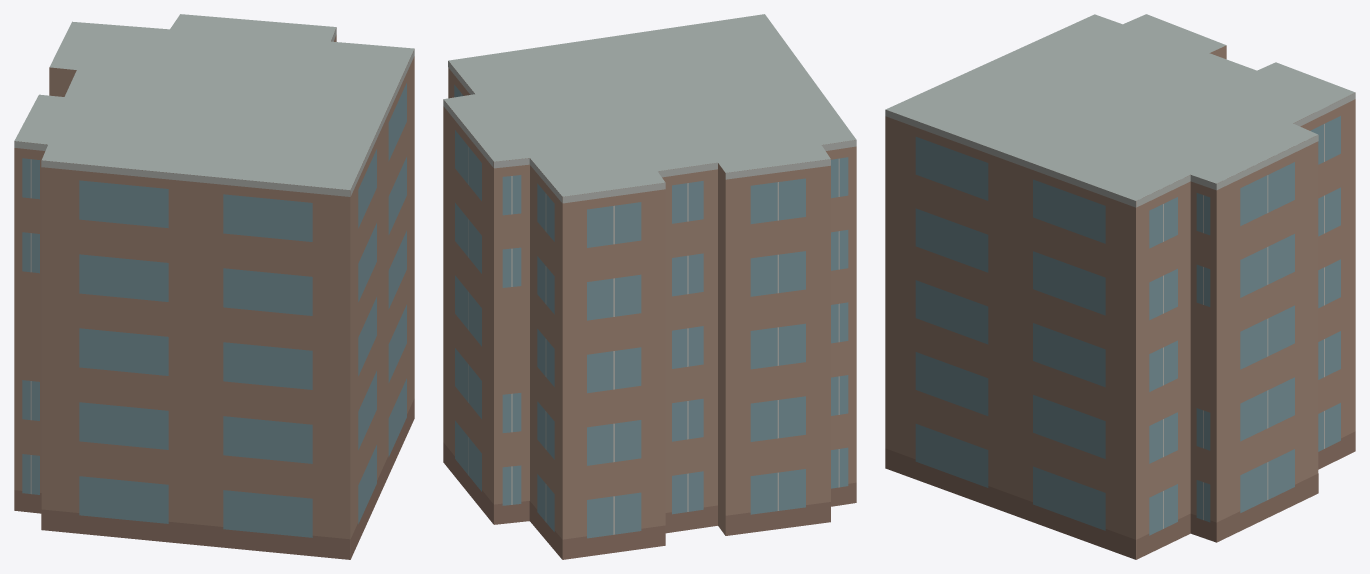
The model's file is survey-upis-32892758.glb.
The picture shows the model from 3 angles, left to right: view 1: azimuth 30°, elevation 25°; view 2: azimuth 150°, elevation 25°; view 3: azimuth 270°, elevation 25°; orthographic projection. The views are drawn at different scales.
Parts seen in each view (by area): view 1: survey-upis-32892758.tmp; view 2: survey-upis-32892758.tmp; view 3: survey-upis-32892758.tmp.
Boxes of the visible parts, x1,y1,x2,y2 form: survey-upis-32892758.tmp: (14,14,414,559); survey-upis-32892758.tmp: (443,14,856,559); survey-upis-32892758.tmp: (885,14,1355,559).
Bounding box in the file's own units: 14.77 × 13.2 × 15.68.
